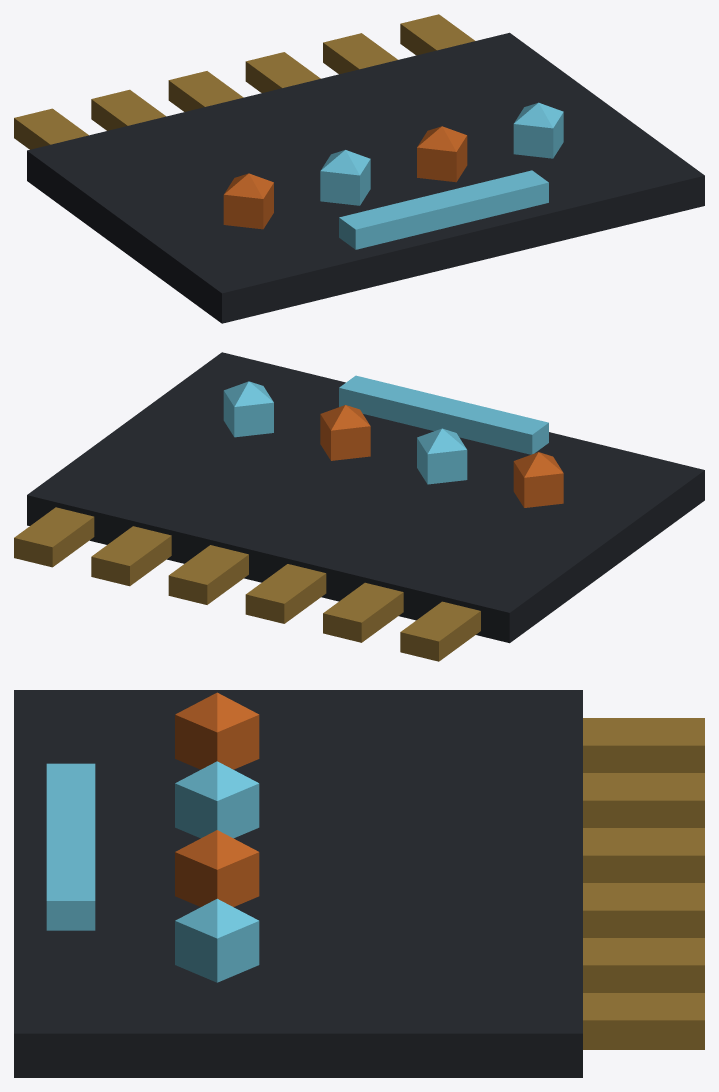
Rendered from mod-subroutine.glb.
The picture shows the model from 3 angles, top to bottom: view 1: azimuth 30°, elevation 25°; view 2: azimuth 150°, elevation 25°; view 3: azimuth 270°, elevation 25°; orthographic projection. The views are drawn at different scales.
Visible parts, largest first — view 1: m; view 2: m; view 3: m.
Boxes of the visible parts, box(x1,y1,x2,y2) form: m: box(14, 14, 704, 323); m: box(14, 352, 704, 661); m: box(14, 690, 704, 1077).
Bounding box in the file's own units: 0.05 × 0.0075 × 0.0425.
